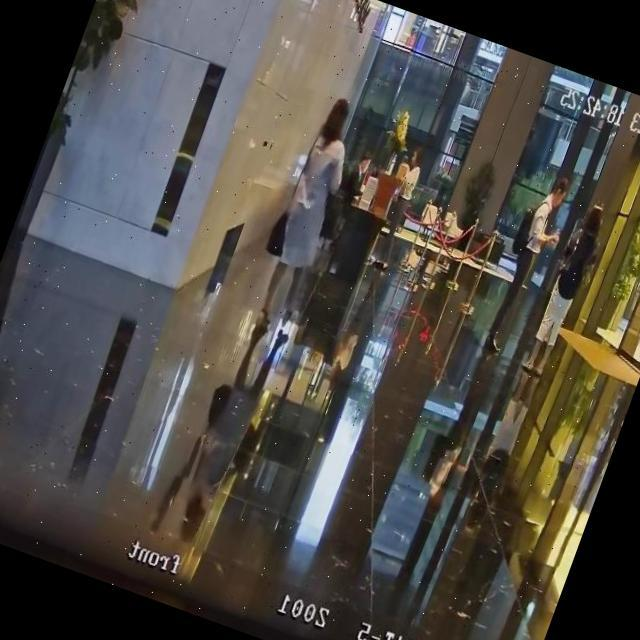person: (243, 92, 371, 346), (482, 170, 579, 361), (520, 198, 613, 380), (366, 144, 430, 272), (378, 146, 428, 240), (336, 145, 376, 208)
